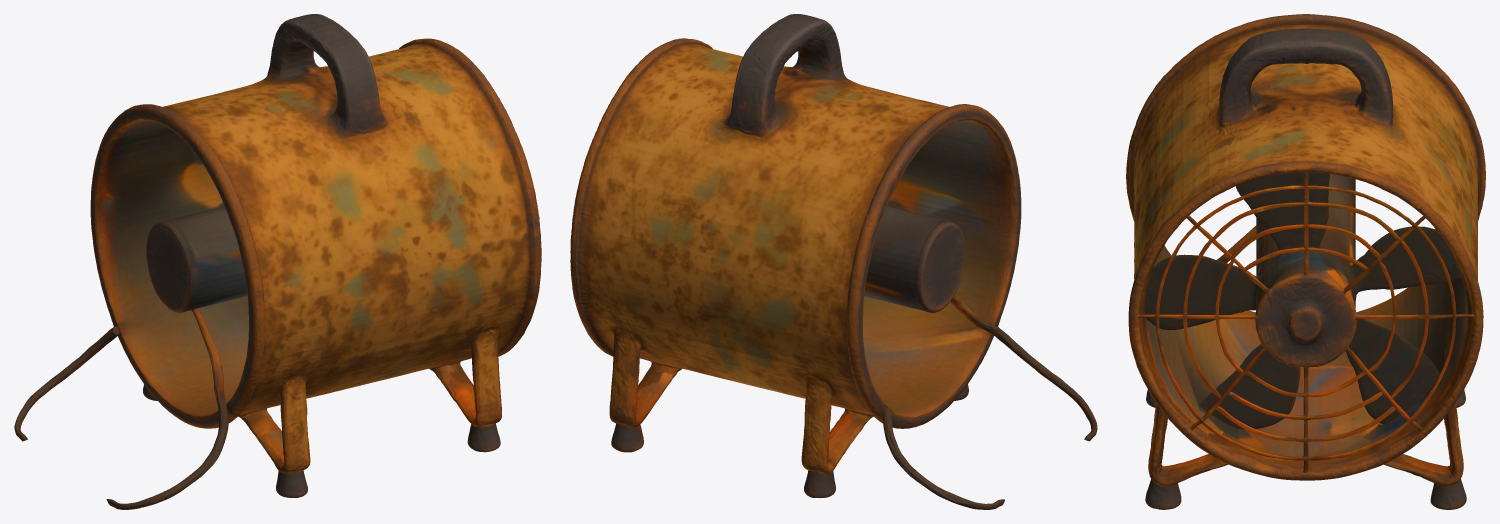
File: tripo_convert_e61a58b7-6782-4434-b126-27fe4ce53df0.obj
The picture shows the model from 3 angles, left to right: view 1: azimuth 30°, elevation 25°; view 2: azimuth 150°, elevation 25°; view 3: azimuth 270°, elevation 25°; orthographic projection. The views are drawn at different scales.
Visible parts, largest first — view 1: tripo_node_e61a58b7-6782-4434-b126-27fe4ce53df0; view 2: tripo_node_e61a58b7-6782-4434-b126-27fe4ce53df0; view 3: tripo_node_e61a58b7-6782-4434-b126-27fe4ce53df0.
Boxes of the visible parts, box(x1,y1,x2,y2) form: tripo_node_e61a58b7-6782-4434-b126-27fe4ce53df0: box(14, 14, 541, 509); tripo_node_e61a58b7-6782-4434-b126-27fe4ce53df0: box(570, 14, 1097, 509); tripo_node_e61a58b7-6782-4434-b126-27fe4ce53df0: box(1126, 14, 1485, 509).
Bounding box in the file's own units: 1 × 0.9382 × 0.724.
1 material, 1 textured.
